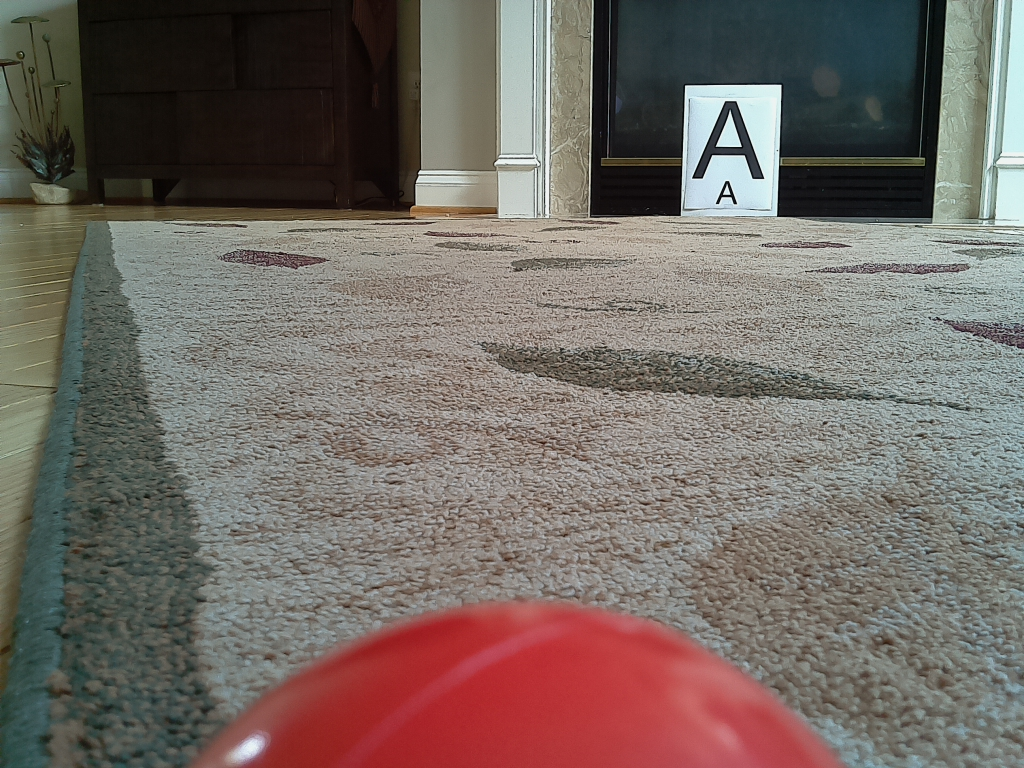letter: (693, 102, 767, 182)
